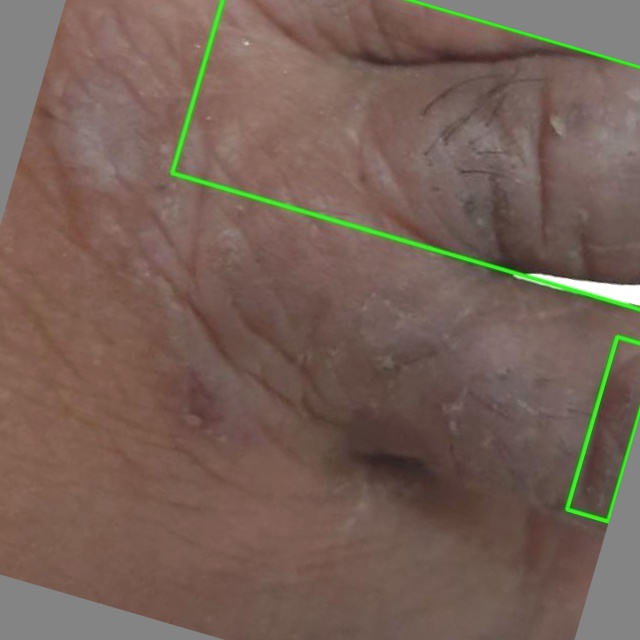Eczema: (172, 0, 639, 309), (567, 336, 639, 521)
